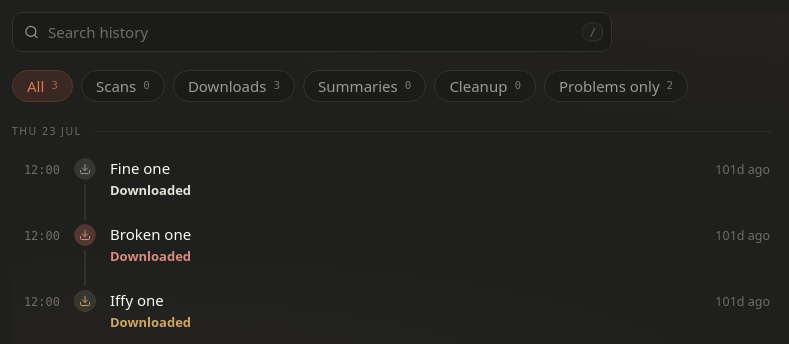
Test: History › problems-only keeps failures and warnings, drops the healthy rows
Expected: the text "Fine one" is shown, [110,158,170,178]
Click the button "Problems only 2" at (616, 86), box [544,70,688,102]
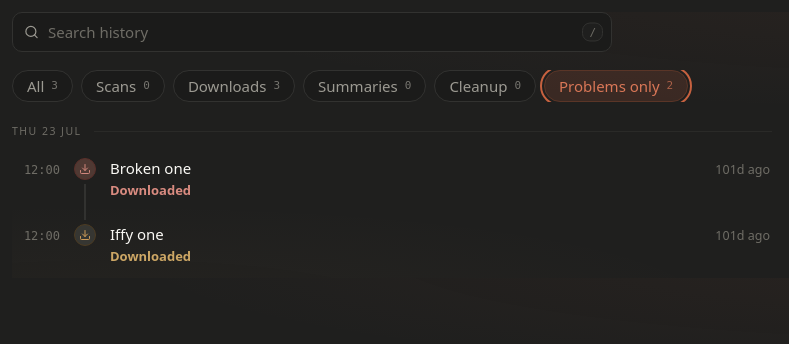
Expected: the text "Broken one" is shown, [110,158,191,178]
Expected: the text "Fine one" is gone
